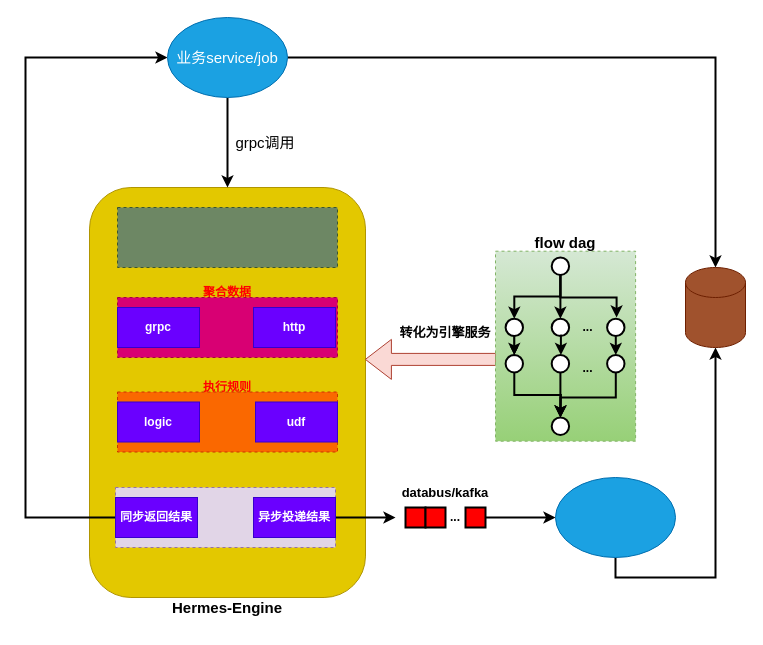
The diagram is 763 pixels wide and 645 high, and some of its shapes have lost their labels. The shapes that lost their labels are listed below. From the top down, each one's box as (x1, y1, x2, y2) in pixels, then its label:
(116, 206, 338, 268): 解析输入
(684, 266, 746, 348): 收录结果持久化
(554, 476, 676, 558): 异步引擎处理结果消费
